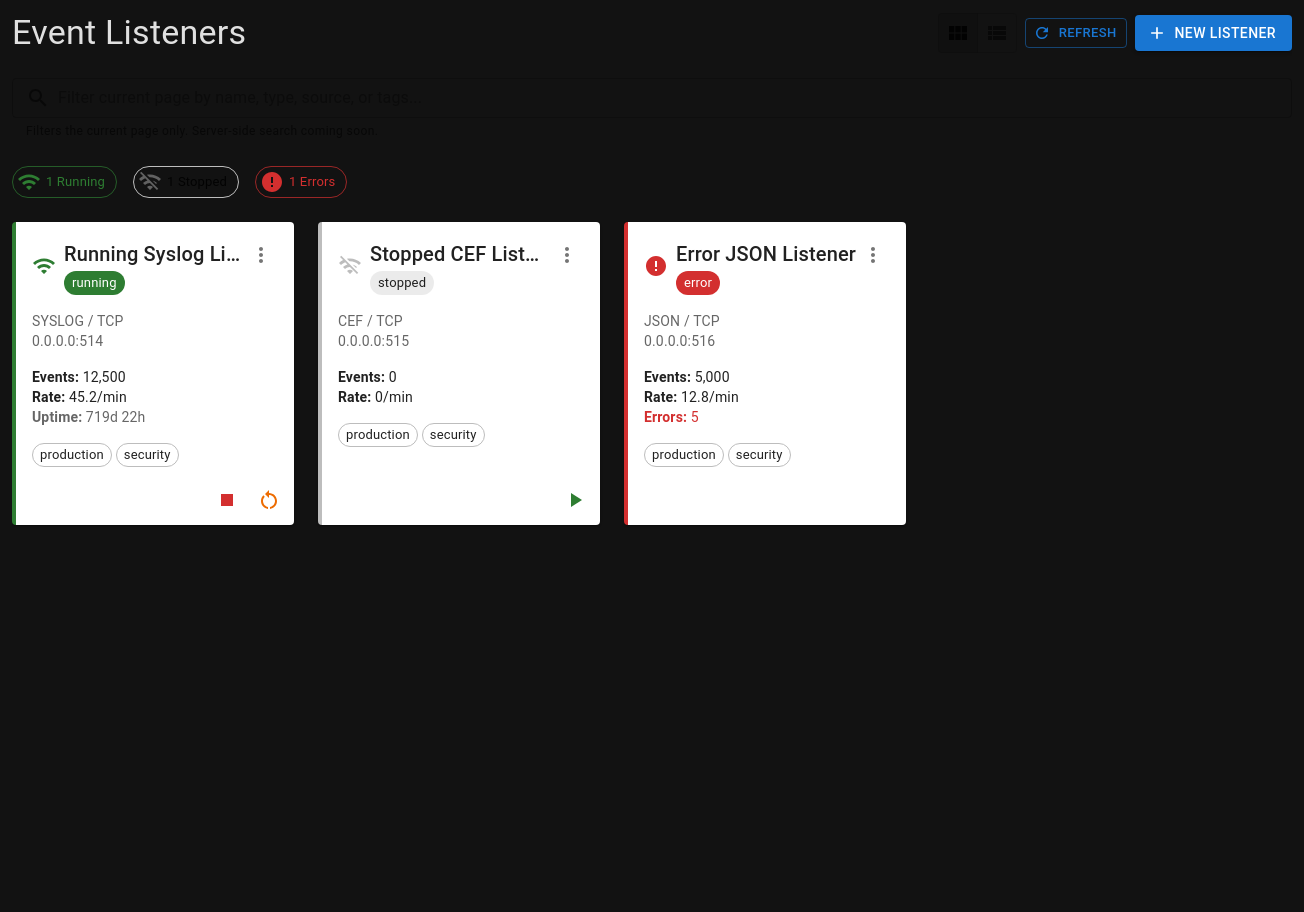
Test: Listeners Page › Error Handling › shows snackbar notification on control operation failure
Check: the text "Stopped CEF Listener" is shown, box [370, 238, 550, 270]
Click the button named "start listener".
click(575, 500)  # box [558, 483, 592, 517]
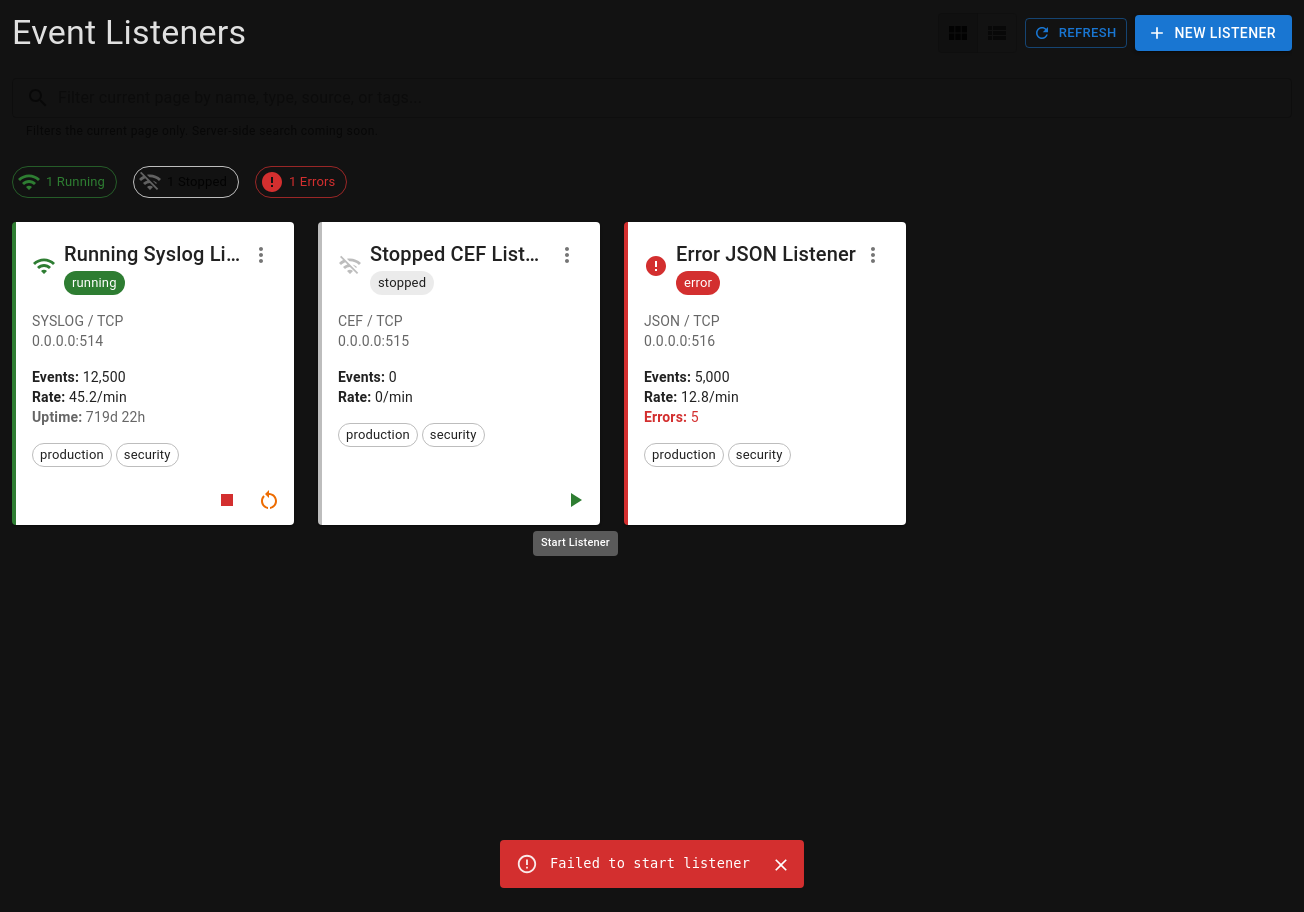
Check: the message "Failed to start listener" is shown, box [500, 840, 804, 888]
